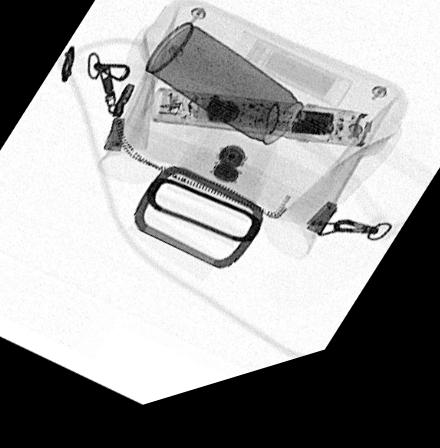Baton: (148, 96, 375, 168)
